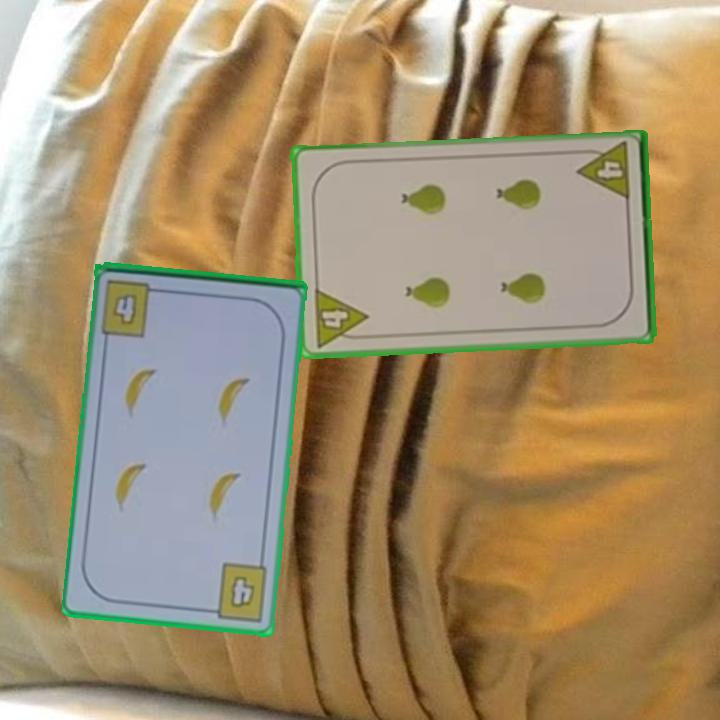4b: (97, 276, 167, 340), (203, 559, 271, 624)
4p: (310, 285, 371, 350), (574, 139, 633, 204)
